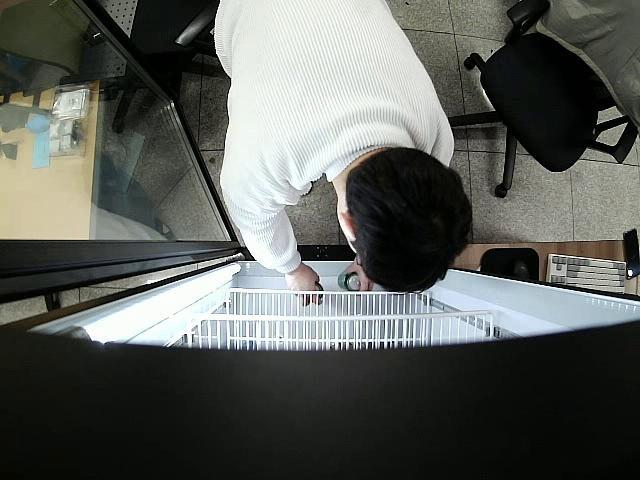12_chilsungCider: (337, 271, 362, 292)
